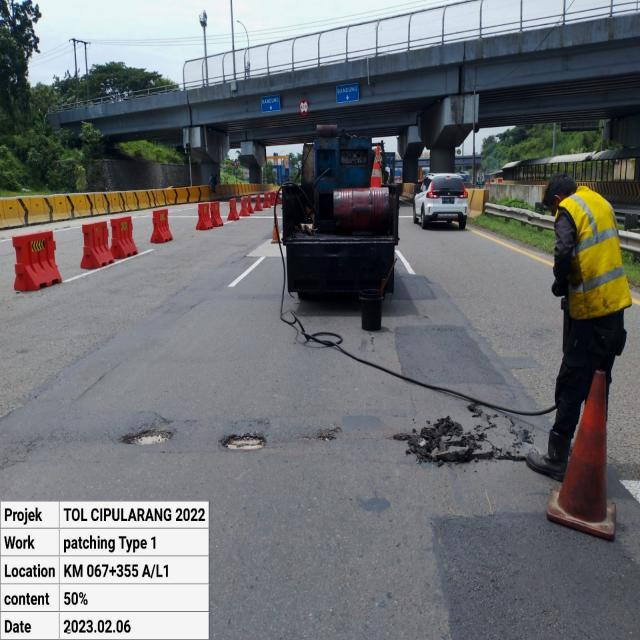Buraco: (117, 427, 175, 448), (220, 432, 269, 453)
